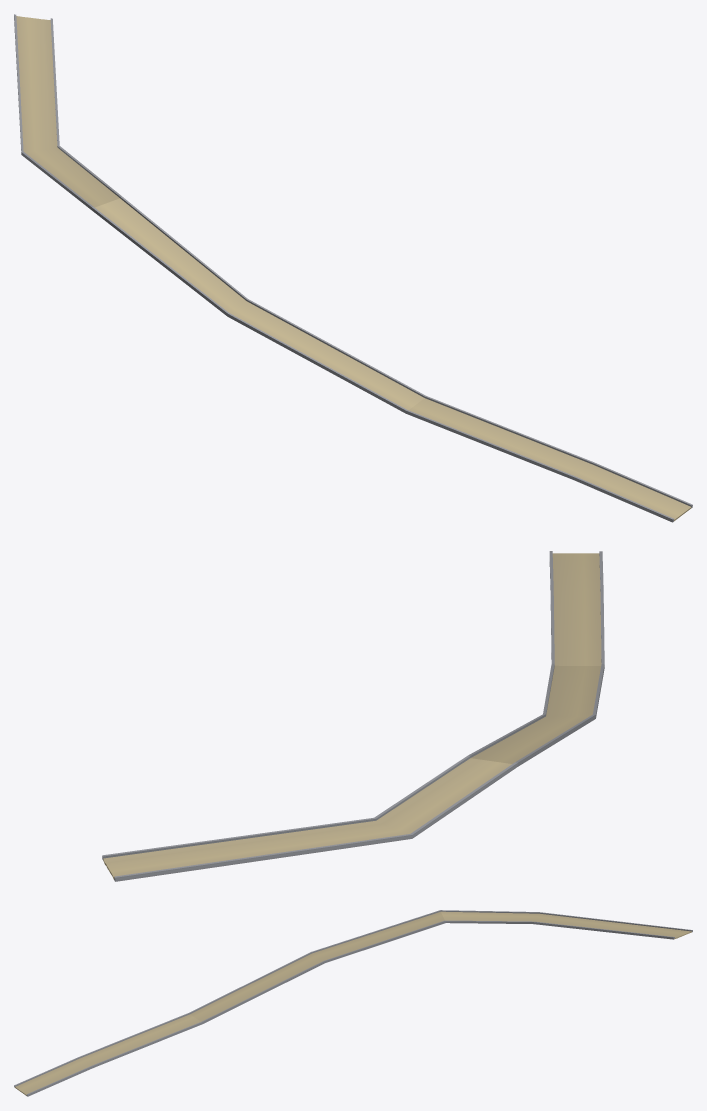
Rendered from sidewalk_08.fbx.
3 views of the same model, one above another, from view 1: azimuth 30°, elevation 25°; view 2: azimuth 150°, elevation 25°; view 3: azimuth 270°, elevation 25° (orthographic). The views are drawn at different scales.
Visible parts, largest first — view 1: sidewalk_07; view 2: sidewalk_07; view 3: sidewalk_07.
Boxes of the visible parts, x1,y1,x2,y2 form: sidewalk_07: (14, 14, 692, 522); sidewalk_07: (102, 551, 604, 881); sidewalk_07: (14, 910, 692, 1096).
Bounding box in the file's own units: 2.66 × 1.48 × 8.19.
Materials: 1 (1 with a texture image).
